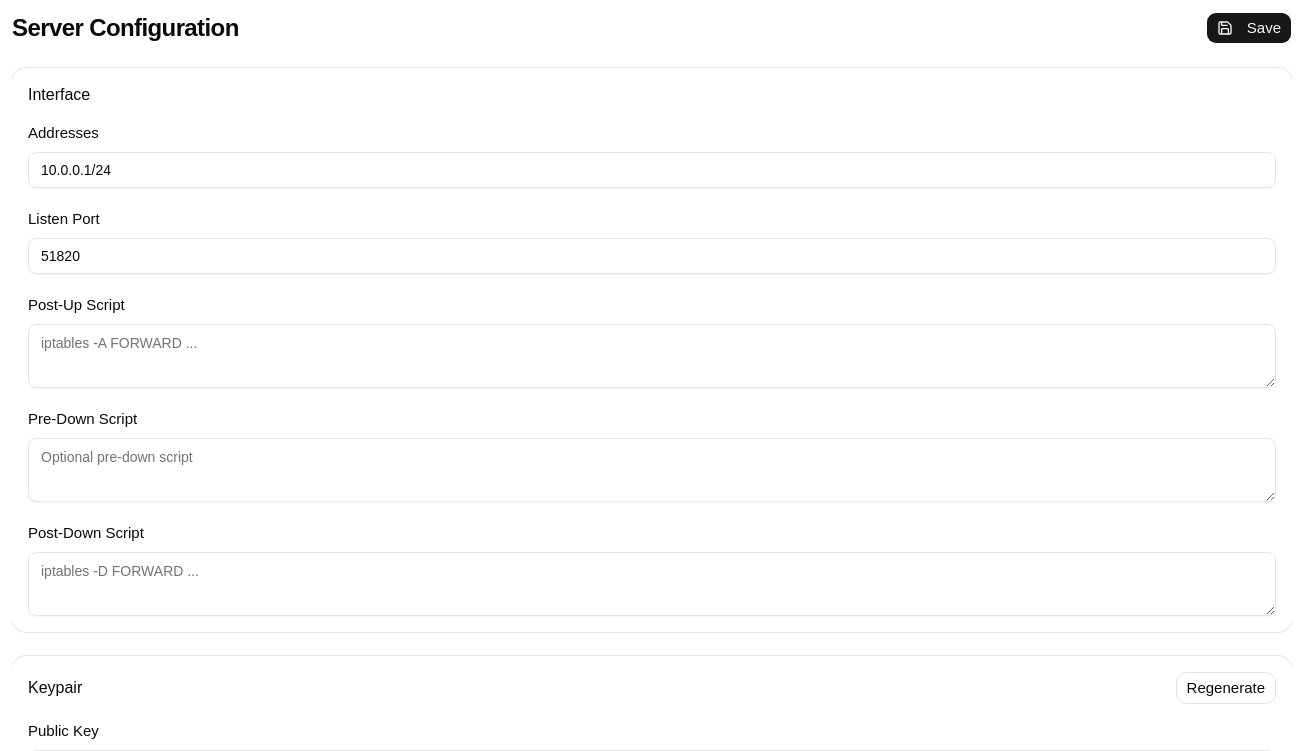
Test: ServerPage interactions › shows validation error for empty listen port
The width and height of the screenshot is (1304, 751).
Step 1. Clear the number field labelled "Listen Port" → (652, 256), box [28,238,1276,274]
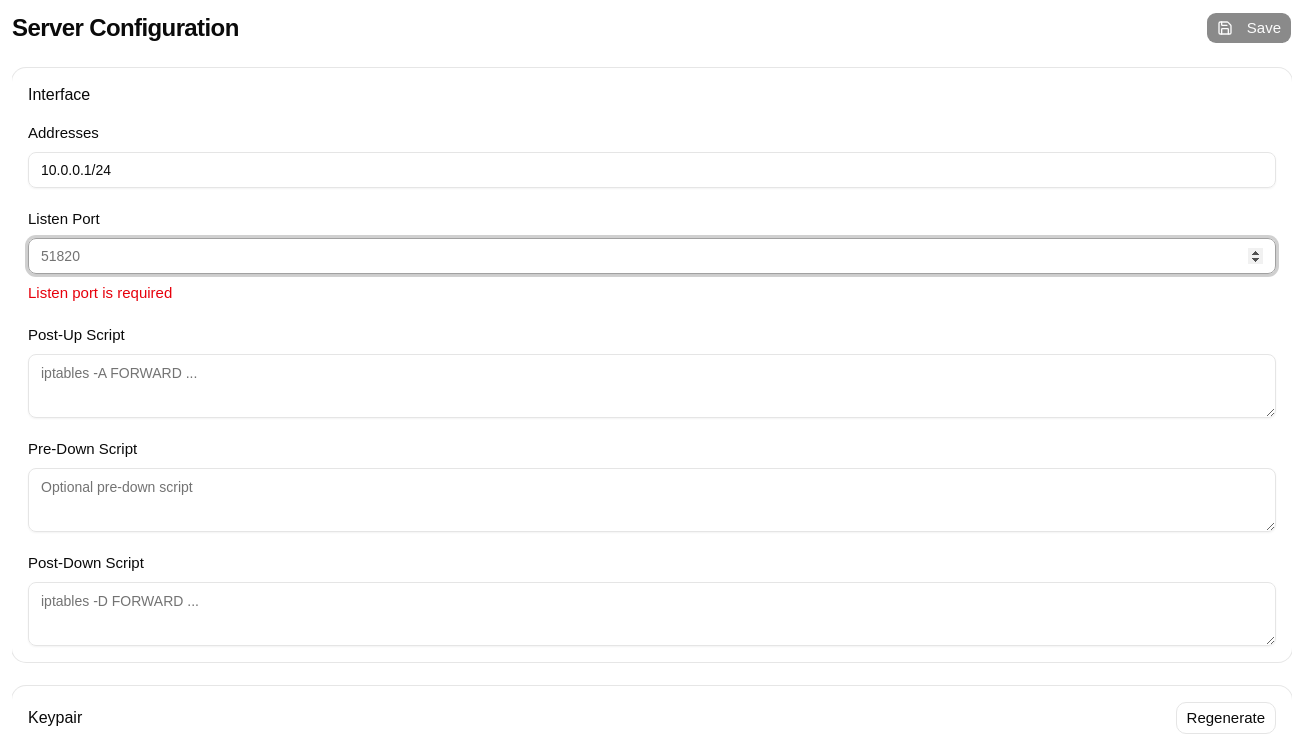
Result: the text "Listen port is required" is shown at [28,284,172,301]
